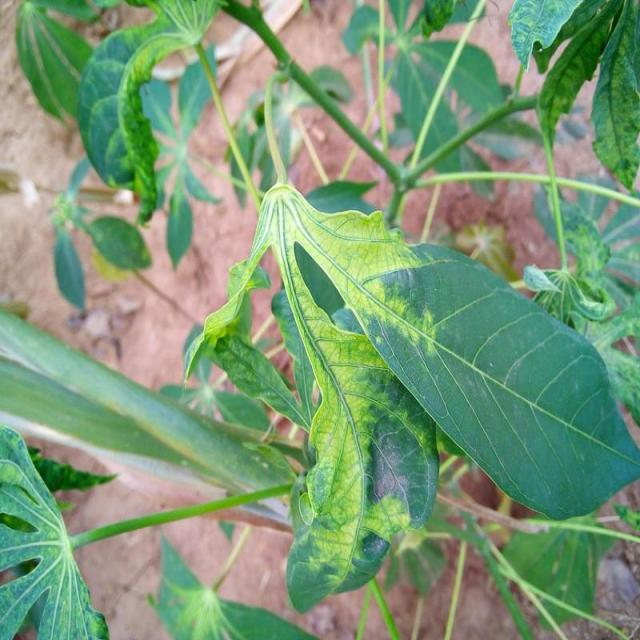cassava leaf: (344, 240, 638, 522), (256, 182, 442, 614), (0, 423, 110, 638)
